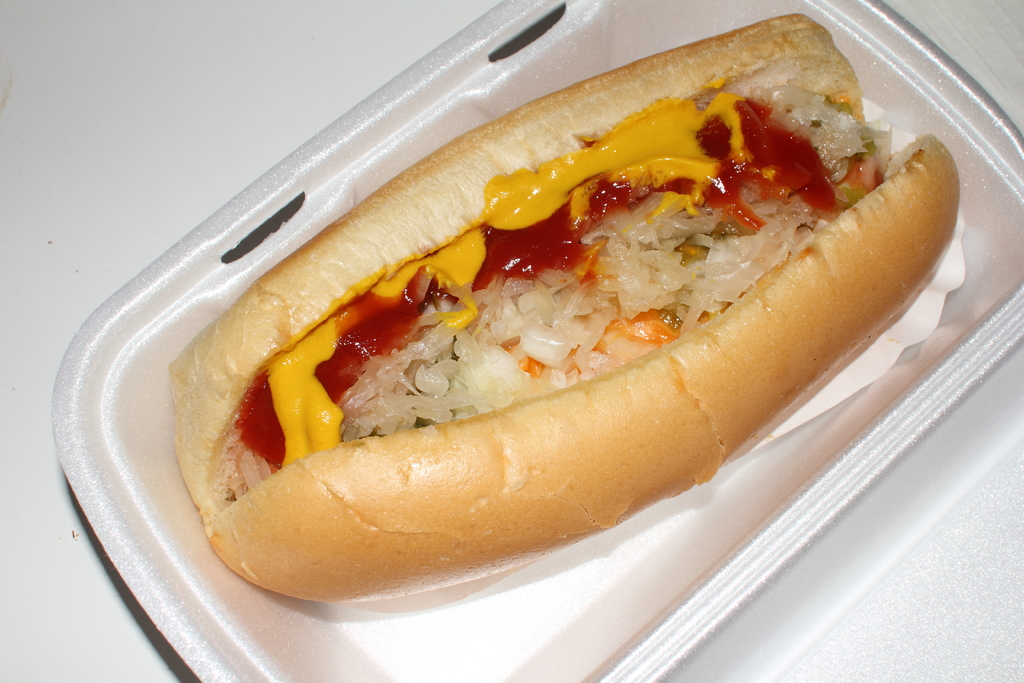hot_dog: (163, 10, 950, 605)
